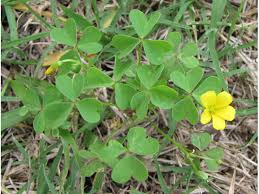clover: (110, 8, 173, 66), (102, 125, 160, 184), (42, 72, 101, 128)
yellow wood sorrrel: (198, 89, 238, 131)
